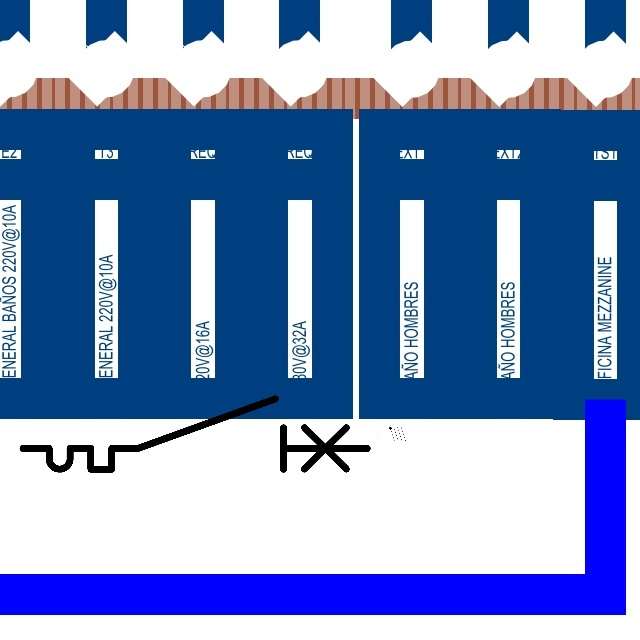interruptor_termomagnetico: (14, 390, 376, 478)
